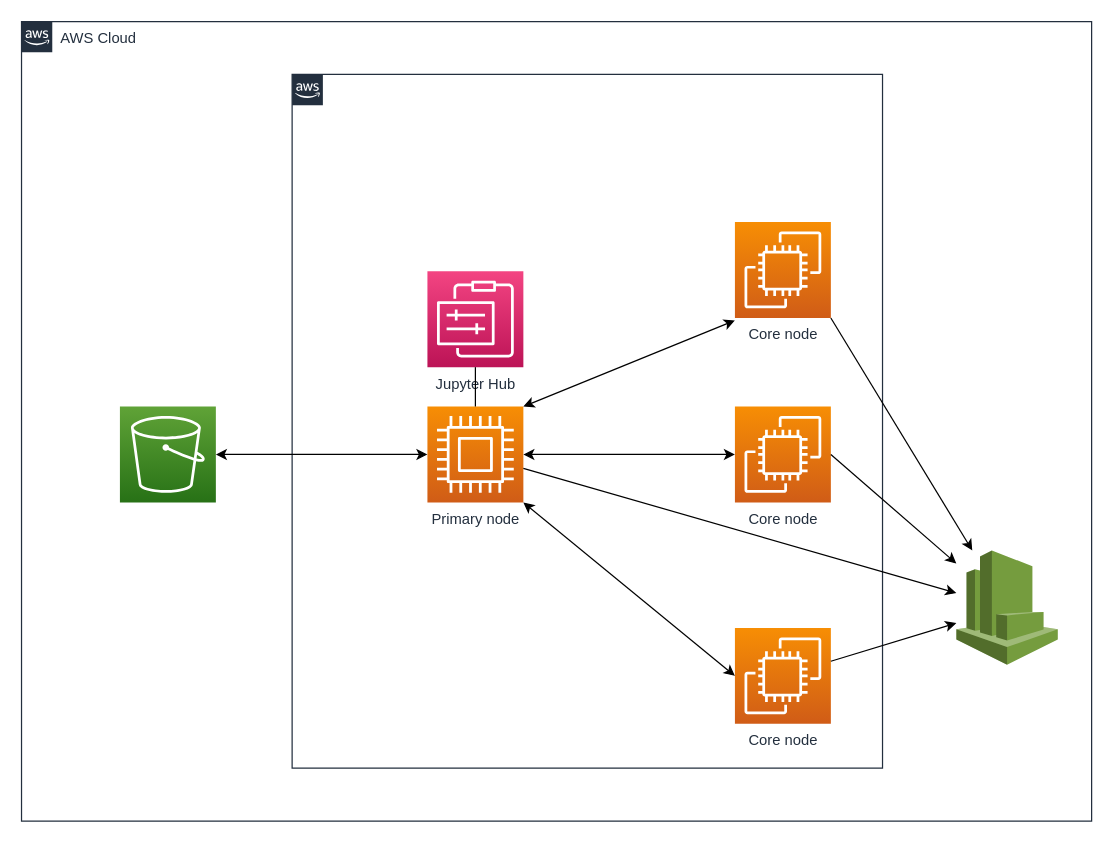
Image size: 1113x843. Some labels were removed from this diagram. The box of each missing label's shape, as (x1, y1, x2, y2) in pixels:
Cloudwatch: (955, 549, 1058, 665)
EMR cluster: (291, 73, 883, 768)
S3 bucket: (119, 405, 216, 502)
